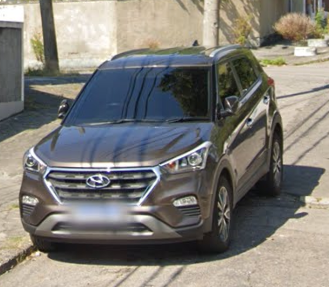car: (20, 45, 285, 255)
